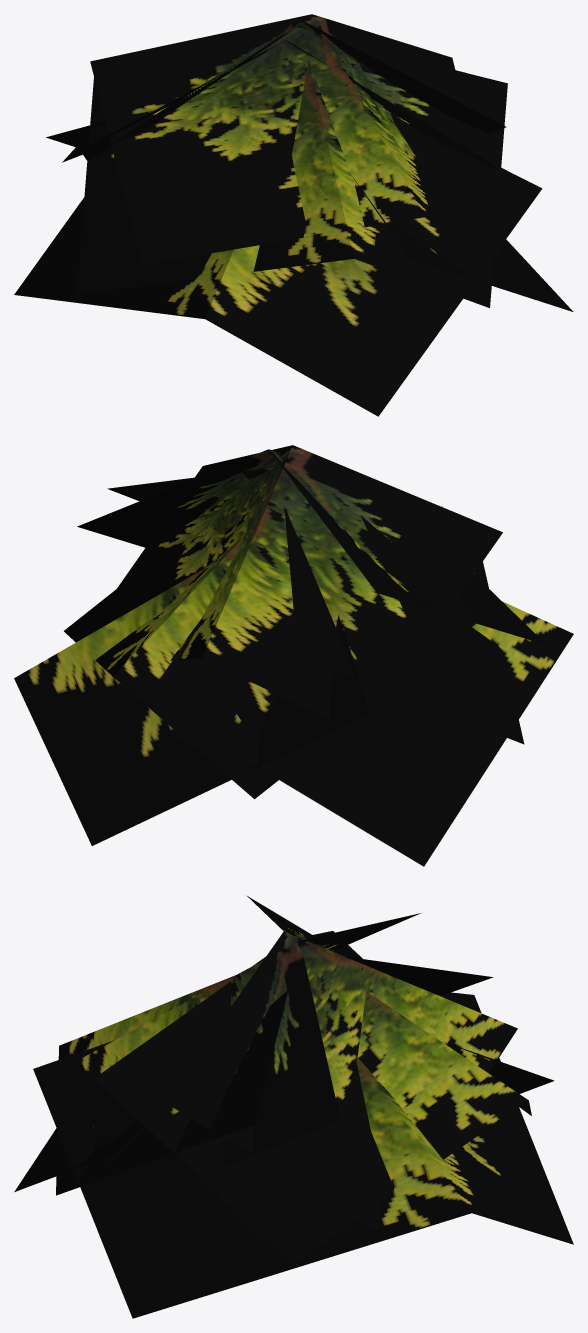
The model's file is Bush2.fbx.
The picture shows the model from 3 angles, top to bottom: view 1: azimuth 30°, elevation 25°; view 2: azimuth 150°, elevation 25°; view 3: azimuth 270°, elevation 25°; orthographic projection. The views are drawn at different scales.
Visible parts, largest first — view 1: Bush2; view 2: Bush2; view 3: Bush2.
Boxes of the visible parts, box(x1,y1,x2,y2) form: Bush2: box(14, 14, 573, 416); Bush2: box(14, 445, 573, 866); Bush2: box(14, 895, 573, 1318).
Size of the model in its own units: 216 by 135 by 236.
